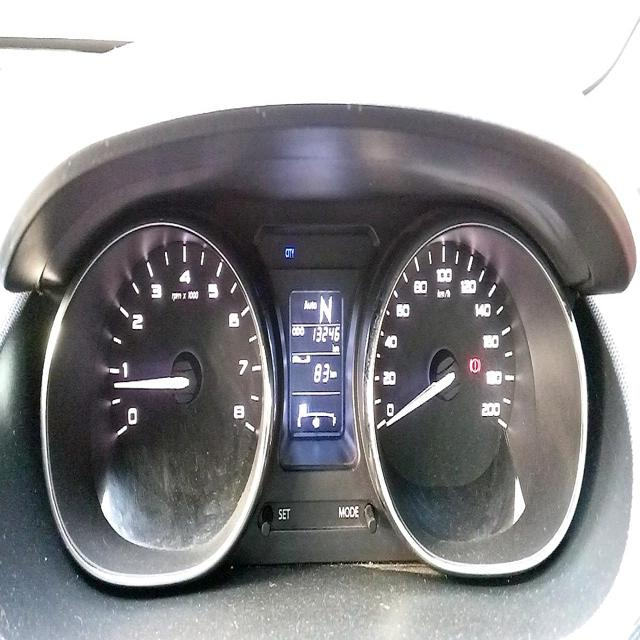odometer: (310, 325, 341, 345)
